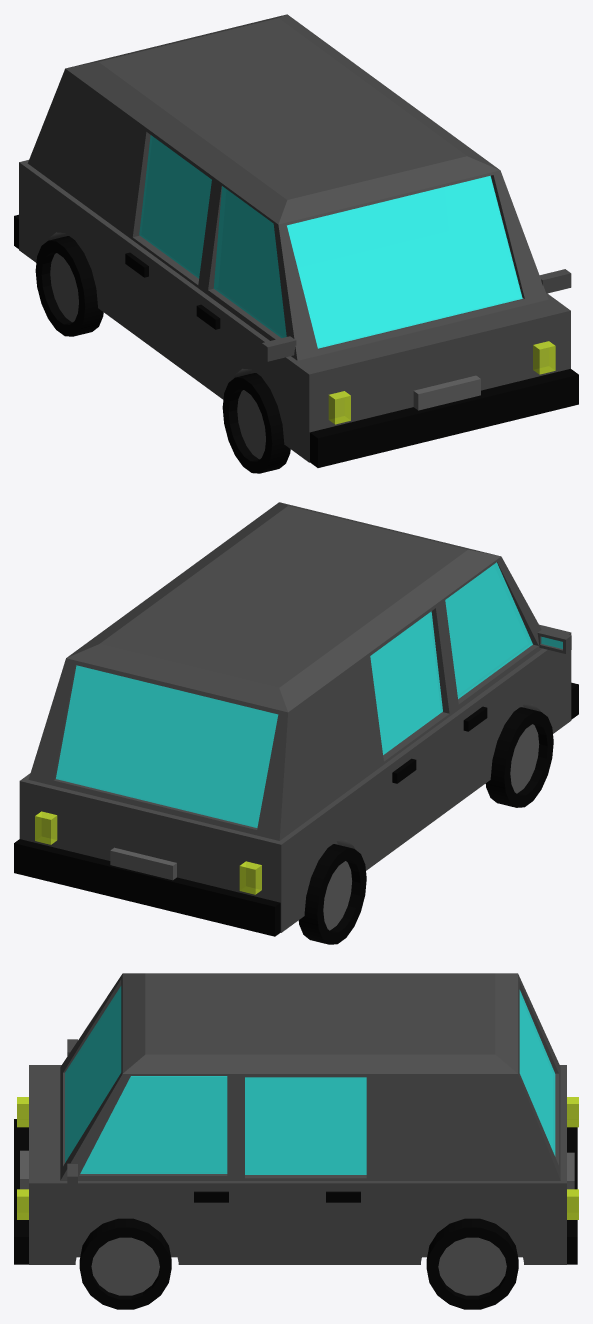
Rendered from lowpoly car3 grey.fbx.
3 views of the same model, one above another, from view 1: azimuth 30°, elevation 25°; view 2: azimuth 150°, elevation 25°; view 3: azimuth 270°, elevation 25° (orthographic). The views are drawn at different scales.
Parts seen in each view (by area): view 1: Box051, Box064, Box053, Box062, Box069, Cylinder024, Cylinder032, Box054, Box055, Box056, Box066, Box186; view 2: Box051, Box188, Box060, Box062, Box069, Cylinder032, Cylinder024, Box057, Box058, Box059, Box066; view 3: Box051, Box065, Box070, Cylinder031, Cylinder033, Box064, Box188, Box053, Box060.
Part boxes in pixels (x1=…): Box051: x1=19, y1=14, x2=570, y2=462; Box064: x1=287, y1=175, x2=522, y2=348; Box053: x1=309, y1=368, x2=578, y2=467; Box062: x1=213, y1=186, x2=286, y2=337; Box069: x1=139, y1=135, x2=211, y2=278; Cylinder024: x1=35, y1=236, x2=103, y2=336; Cylinder032: x1=222, y1=373, x2=290, y2=473; Box054: x1=413, y1=375, x2=480, y2=410; Box055: x1=328, y1=391, x2=350, y2=424; Box056: x1=533, y1=341, x2=555, y2=374; Box066: x1=262, y1=336, x2=296, y2=361; Box186: x1=539, y1=269, x2=571, y2=293; Box051: x1=19, y1=502, x2=571, y2=932; Box188: x1=56, y1=665, x2=278, y2=827; Box060: x1=14, y1=839, x2=280, y2=936; Box062: x1=445, y1=562, x2=532, y2=698; Box069: x1=370, y1=611, x2=442, y2=754; Cylinder032: x1=485, y1=707, x2=553, y2=807; Cylinder024: x1=298, y1=844, x2=366, y2=944; Box057: x1=110, y1=847, x2=176, y2=880; Box058: x1=239, y1=861, x2=261, y2=894; Box059: x1=35, y1=811, x2=57, y2=844; Box066: x1=537, y1=628, x2=571, y2=653; Box051: x1=29, y1=973, x2=566, y2=1264; Box065: x1=80, y1=1076, x2=227, y2=1173; Box070: x1=245, y1=1077, x2=366, y2=1174; Cylinder031: x1=426, y1=1218, x2=518, y2=1309; Cylinder033: x1=79, y1=1218, x2=171, y2=1309; Box064: x1=65, y1=986, x2=121, y2=1162; Box188: x1=519, y1=990, x2=555, y2=1156; Box053: x1=14, y1=1119, x2=28, y2=1264; Box060: x1=567, y1=1127, x2=577, y2=1264.
Bounding box in the file's own units: 59.78 × 47.02 × 104.
